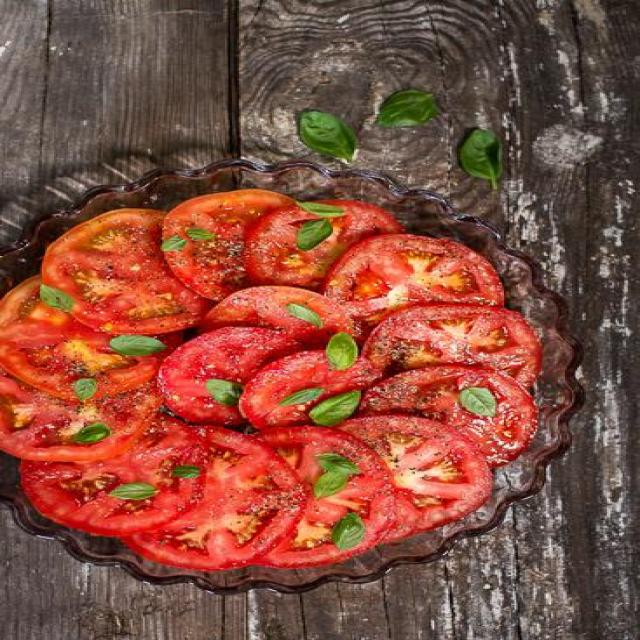Tomato: (40, 210, 196, 338), (375, 356, 567, 445), (329, 228, 520, 309), (362, 302, 546, 382), (160, 325, 302, 427), (255, 354, 366, 426), (163, 199, 249, 289)
